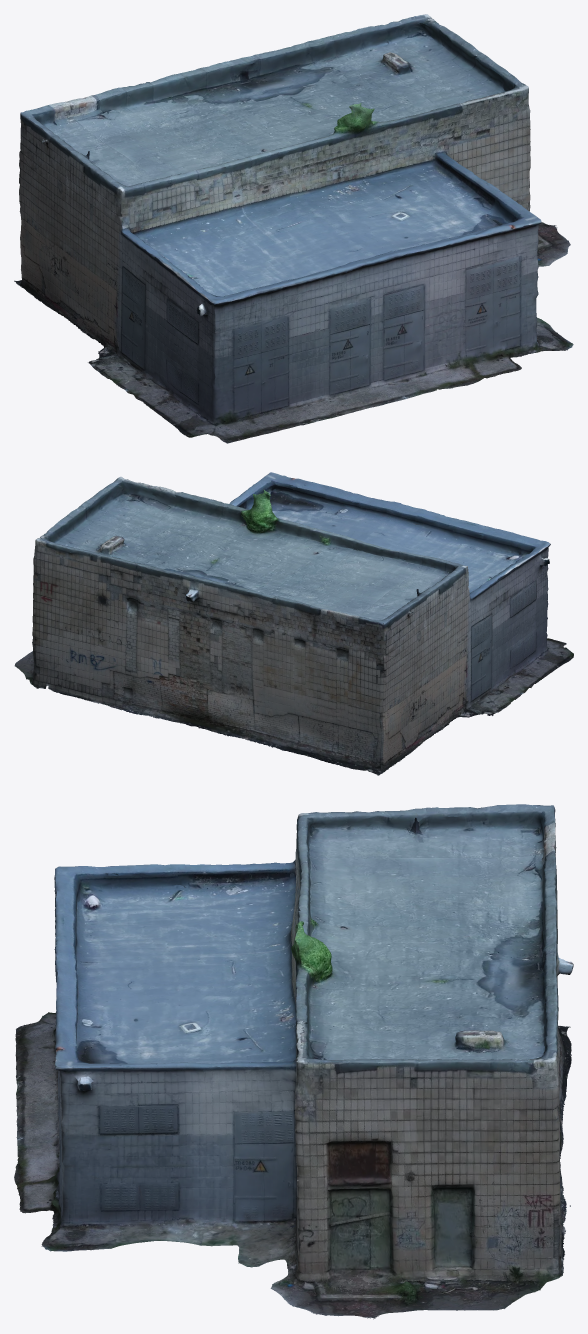
File: predio_velho.glb
The picture shows the model from 3 angles, top to bottom: view 1: azimuth 30°, elevation 25°; view 2: azimuth 150°, elevation 25°; view 3: azimuth 270°, elevation 25°; orthographic projection. The views are drawn at different scales.
Visible parts, largest first — view 1: Model; view 2: Model; view 3: Model.
Part boxes in pixels (box(x1,y1,x2,y2)): Model: box(14, 14, 573, 443); Model: box(14, 472, 573, 775); Model: box(14, 804, 573, 1319).
Bounding box in the file's own units: 15.23 × 5.88 × 11.61.
Materials: 4 (4 with a texture image).
